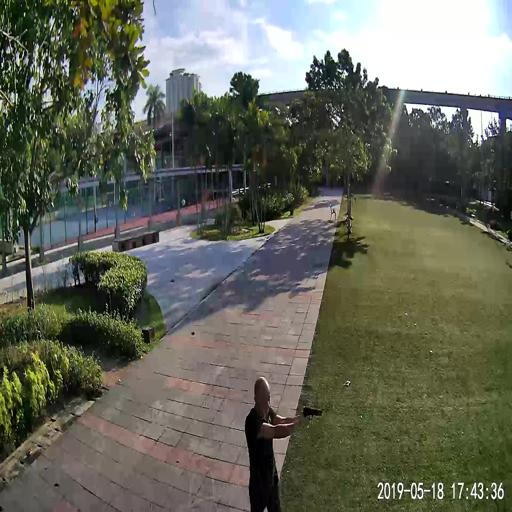pistol: (301, 402, 323, 421)
